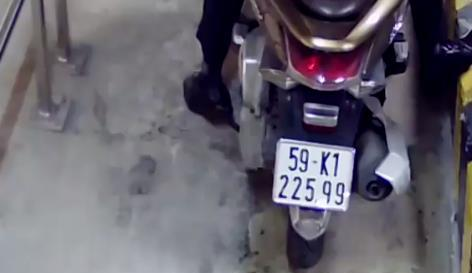lisence: (270, 138, 357, 213)
